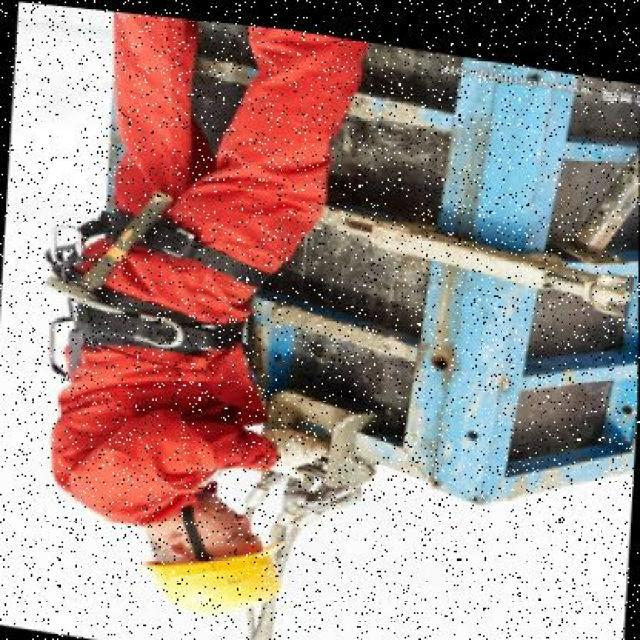helmet: (134, 505, 306, 621)
